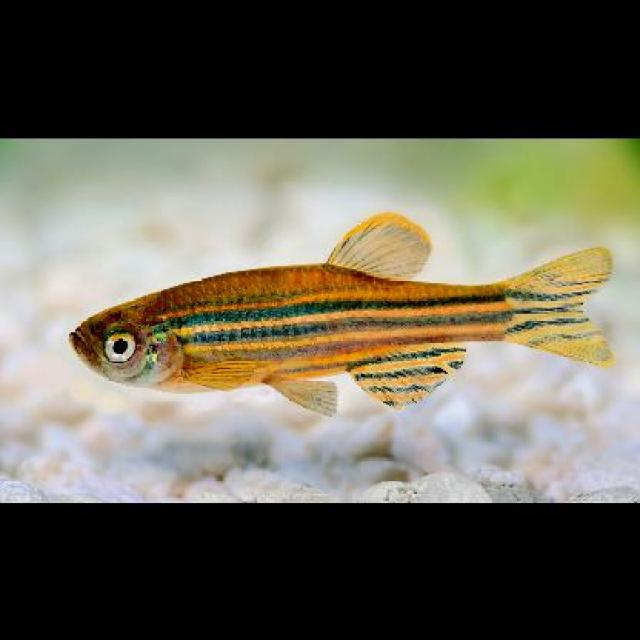ZebraFish: (73, 211, 622, 411)
